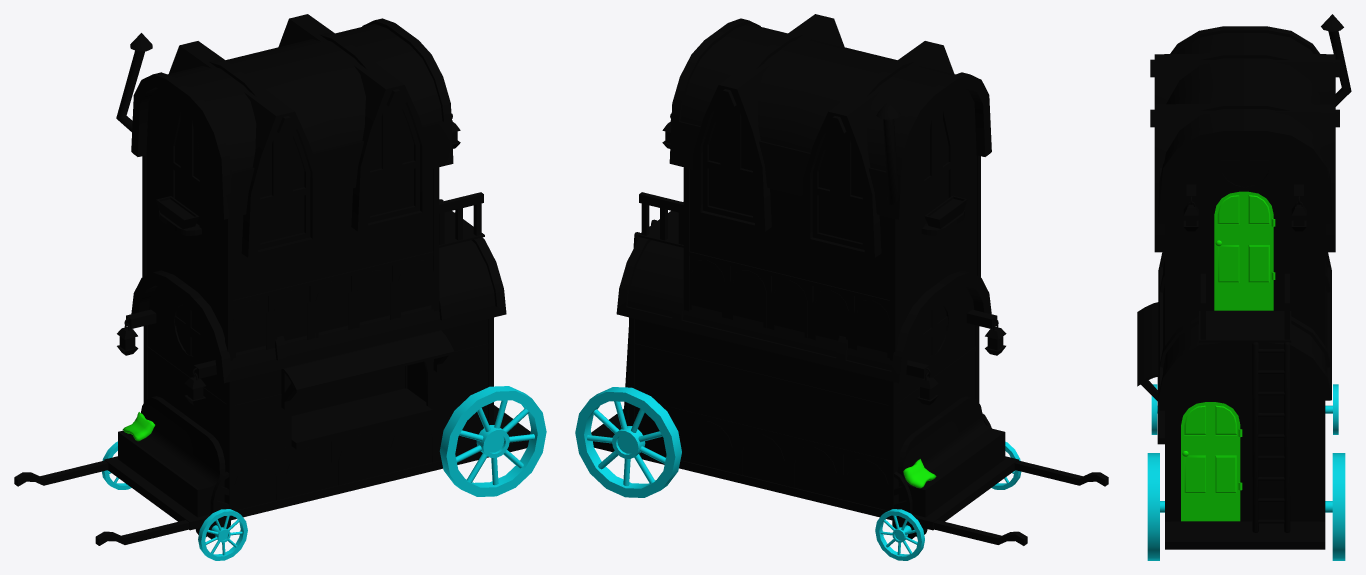
File: SM_Caravan.fbx
3 views of the same model, side by side, from view 1: azimuth 30°, elevation 25°; view 2: azimuth 150°, elevation 25°; view 3: azimuth 270°, elevation 25° (orthographic). The views are drawn at different scales.
Parts seen in each view (by area): view 1: SM_Caravan, SM_Wheel_2, SM_Wheels; view 2: SM_Caravan, SM_Wheel_1, SM_Wheels; view 3: SM_Caravan, SM_Door_1, SM_Door_2, SM_Wheel_1, SM_Wheel_2, SM_Wheels.
Boxes of the visible parts, box(x1,y1,x2,y2) form: SM_Caravan: box(14, 14, 530, 545); SM_Wheel_2: box(439, 386, 546, 496); SM_Wheels: box(102, 441, 247, 560); SM_Caravan: box(591, 14, 1108, 545); SM_Wheel_1: box(575, 387, 681, 497); SM_Wheels: box(875, 441, 1021, 560); SM_Caravan: box(1137, 14, 1351, 549); SM_Door_1: box(1181, 402, 1242, 521); SM_Door_2: box(1214, 191, 1275, 310); SM_Wheel_1: box(1325, 453, 1345, 560); SM_Wheel_2: box(1147, 453, 1164, 560); SM_Wheels: box(1151, 384, 1338, 434).
Size of the model in its own units: 719 by 711 by 325.
